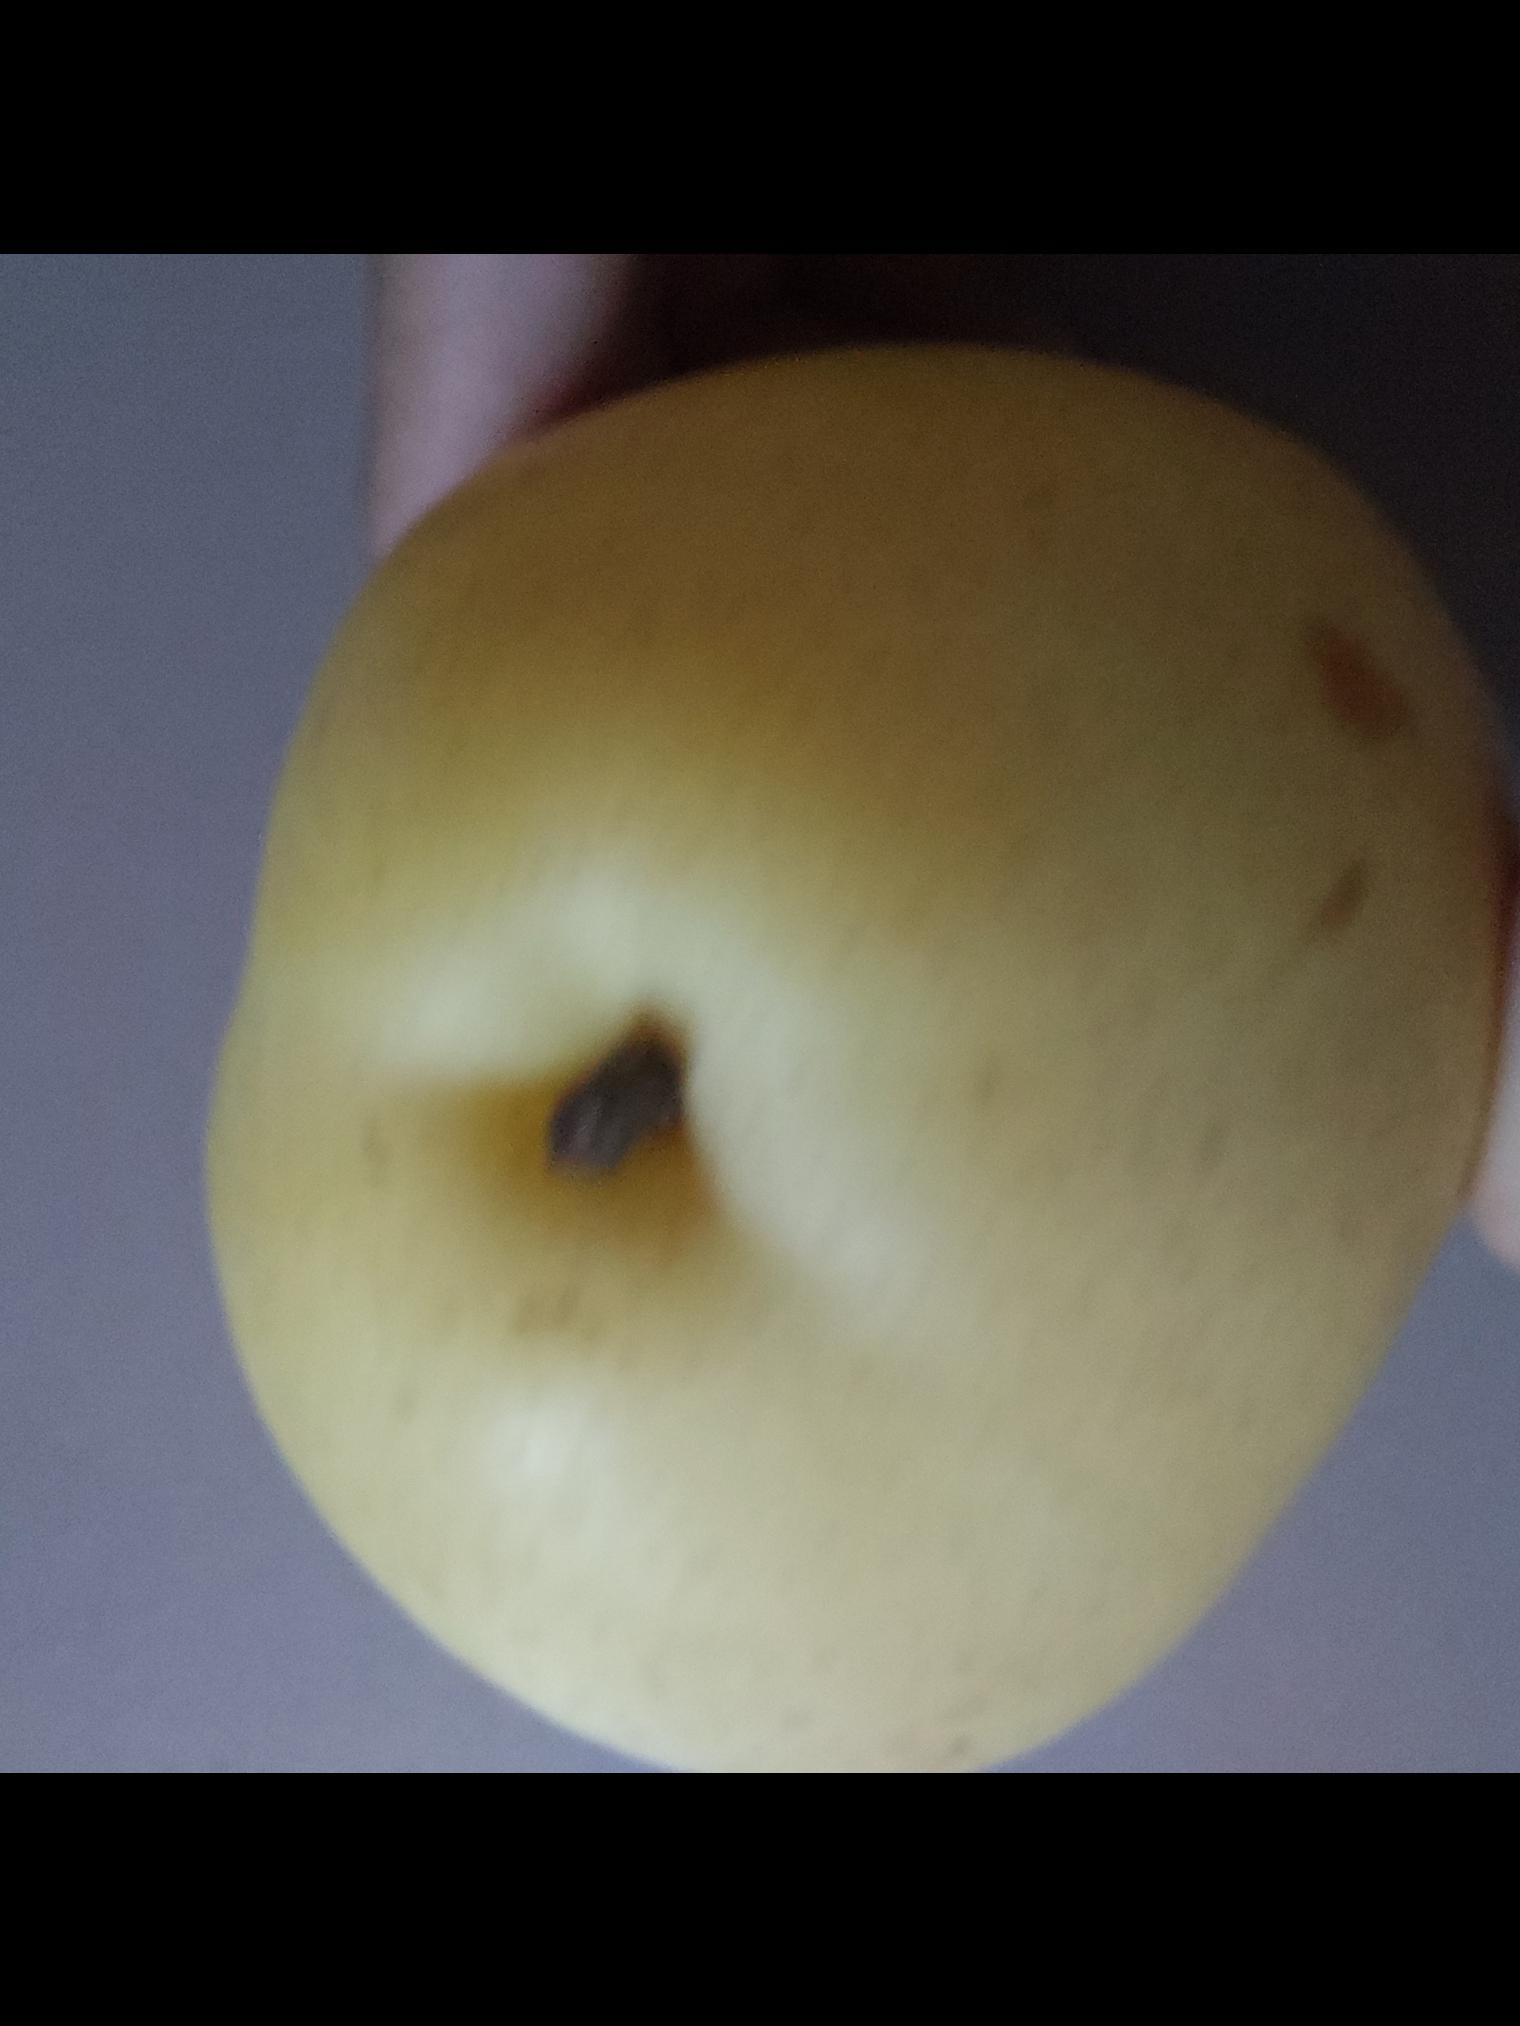Good Pear: (211, 342, 1520, 1774)
